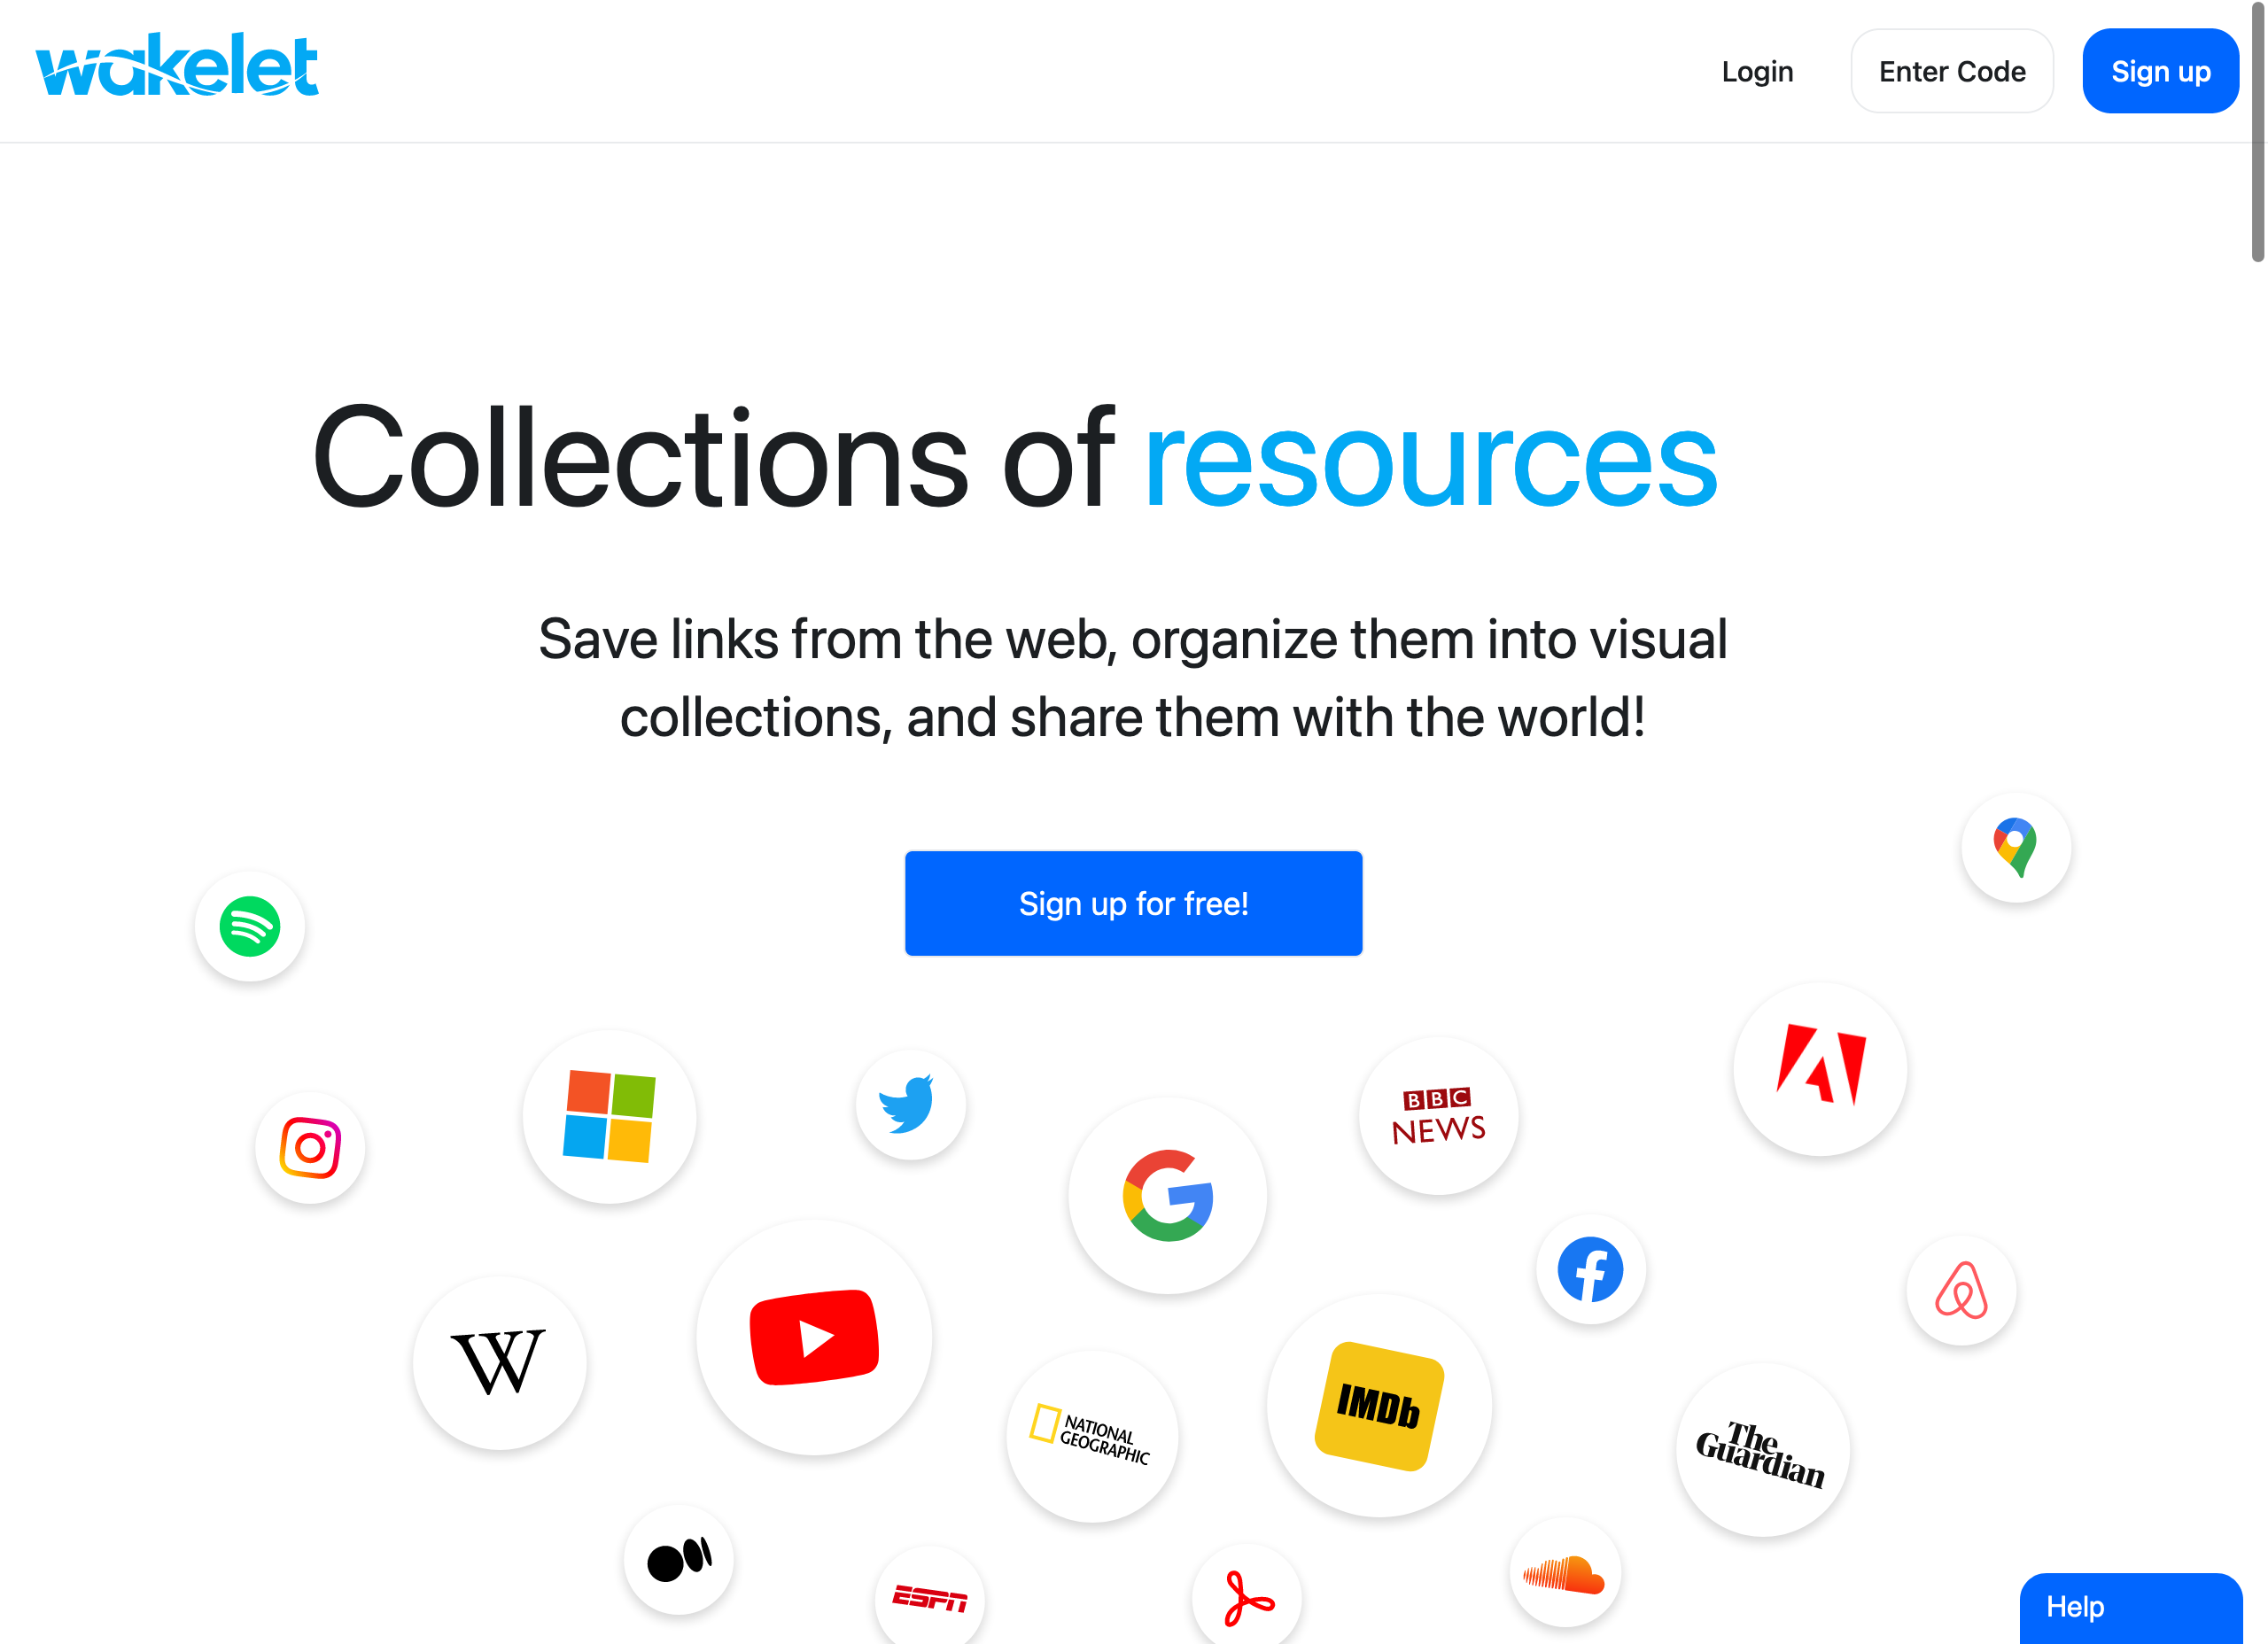Login: (1703, 44, 1815, 102)
